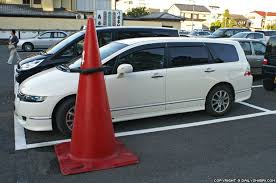car: (16, 38, 254, 138), (16, 24, 181, 85), (15, 28, 71, 54), (260, 35, 276, 88)
cone: (61, 17, 134, 176)
